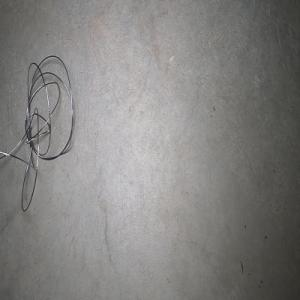Wire: (0, 55, 73, 211)
